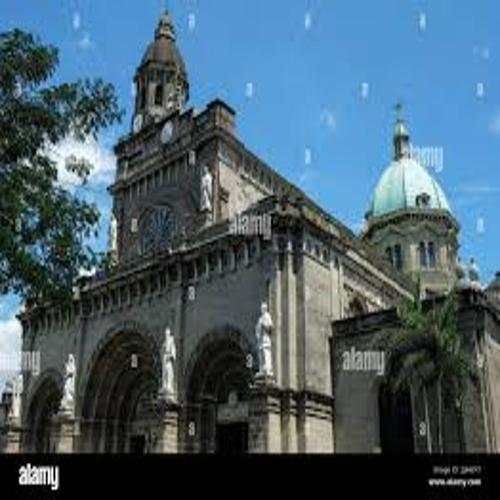Manila Cathedral Church: (29, 8, 497, 457)
